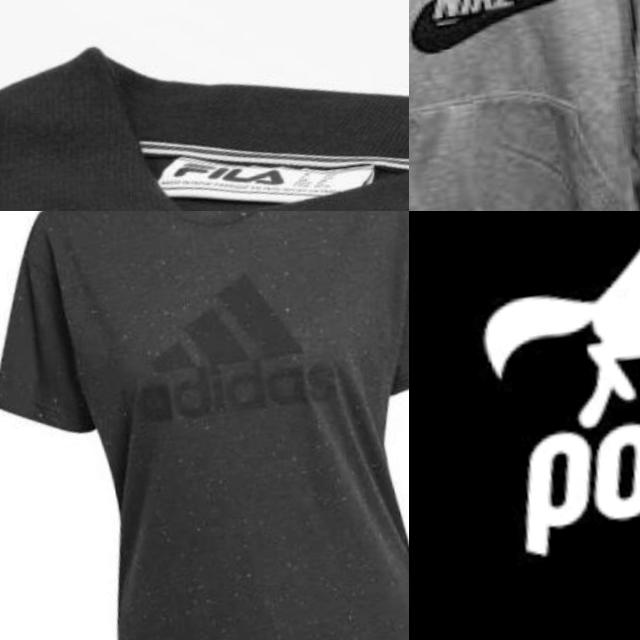ADIDAS_original: (112, 250, 354, 458)
NIKE_original: (409, 0, 587, 68)
PUMA_fake: (456, 211, 640, 581)
